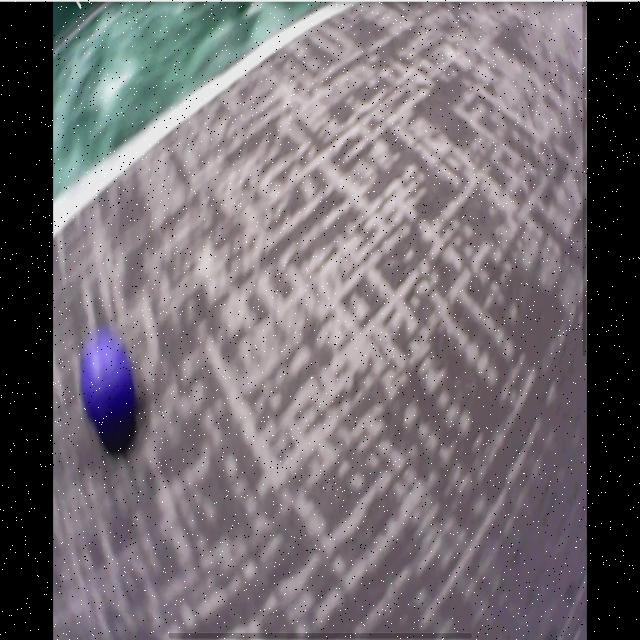ball: (82, 337, 128, 421)
